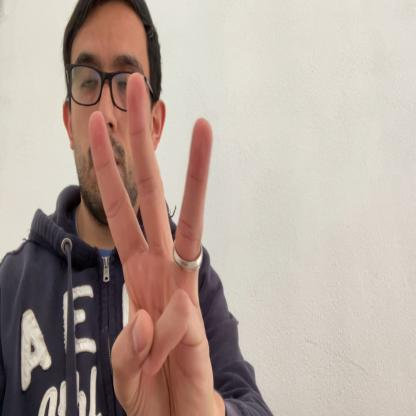W: (88, 74, 216, 416)
